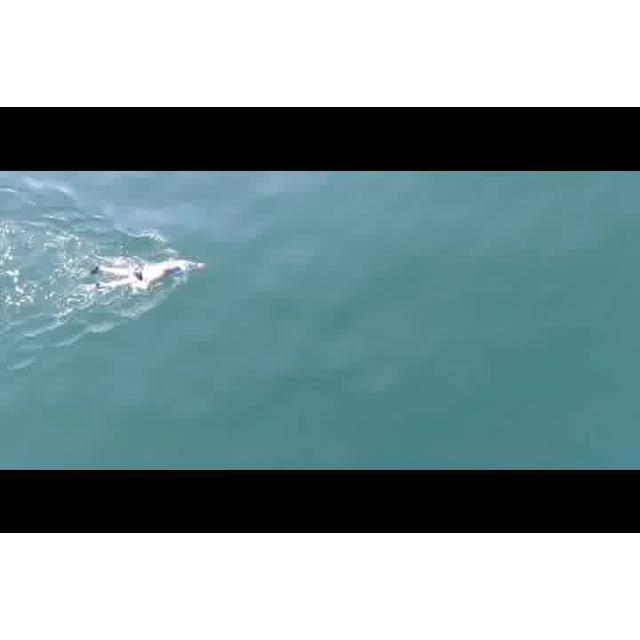human: (90, 253, 202, 294)
